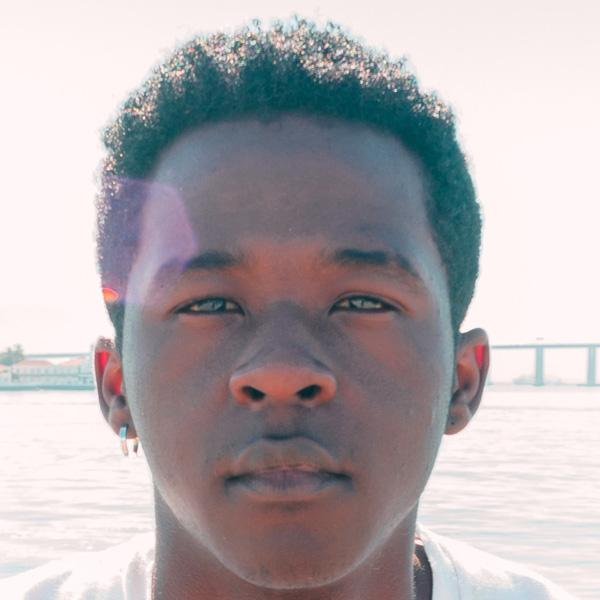Eyes: (319, 281, 408, 333), (162, 283, 251, 329)
